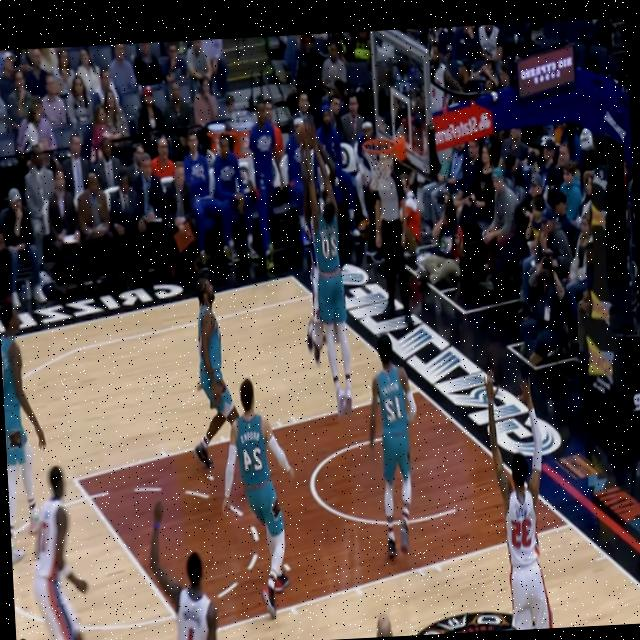foul: (288, 110, 361, 424)
